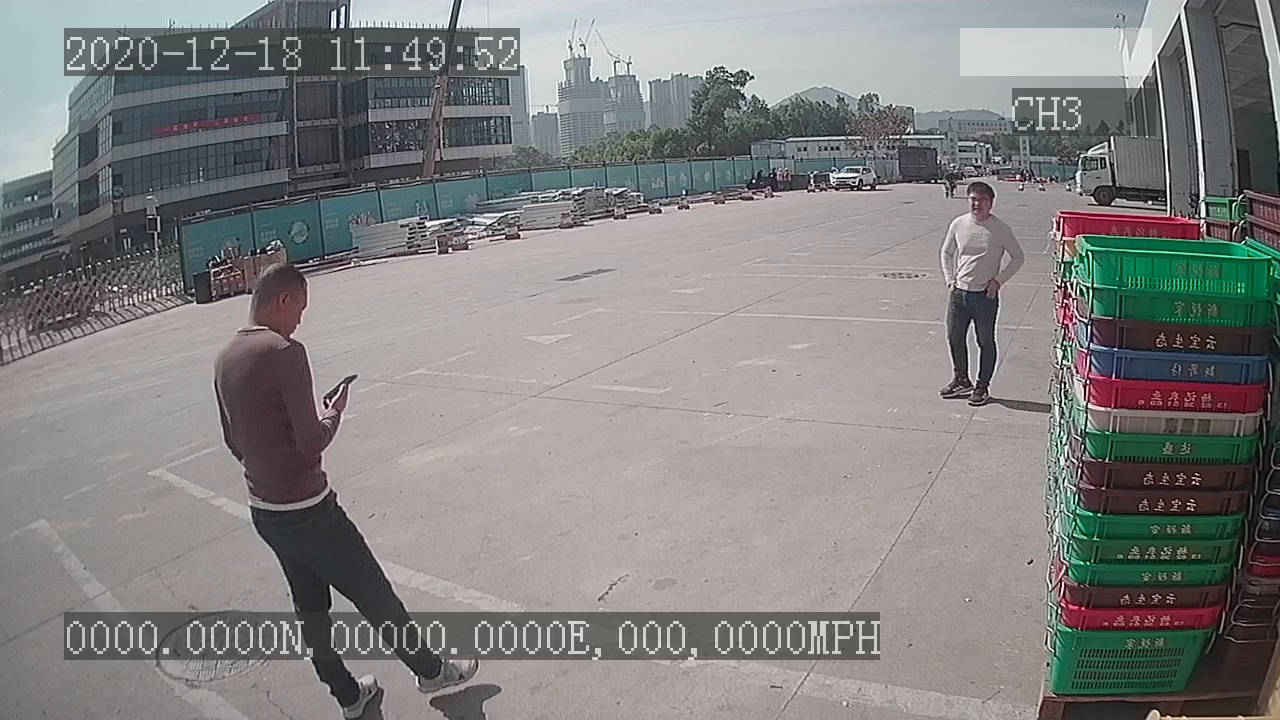person: (929, 179, 1031, 413)
